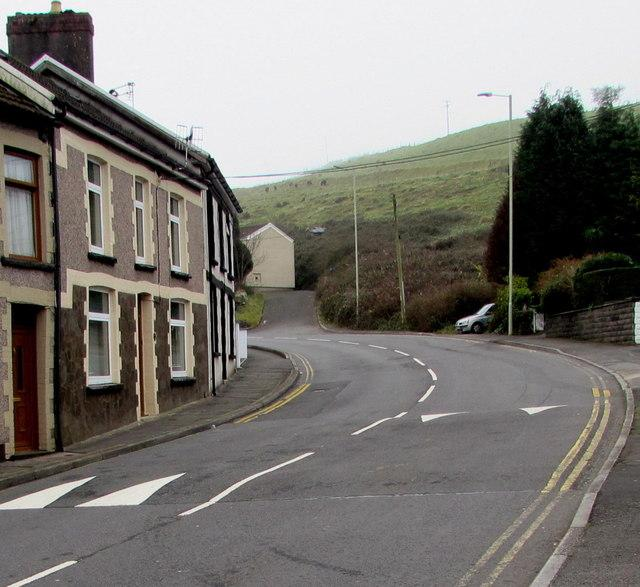Bump: (0, 431, 629, 517)
